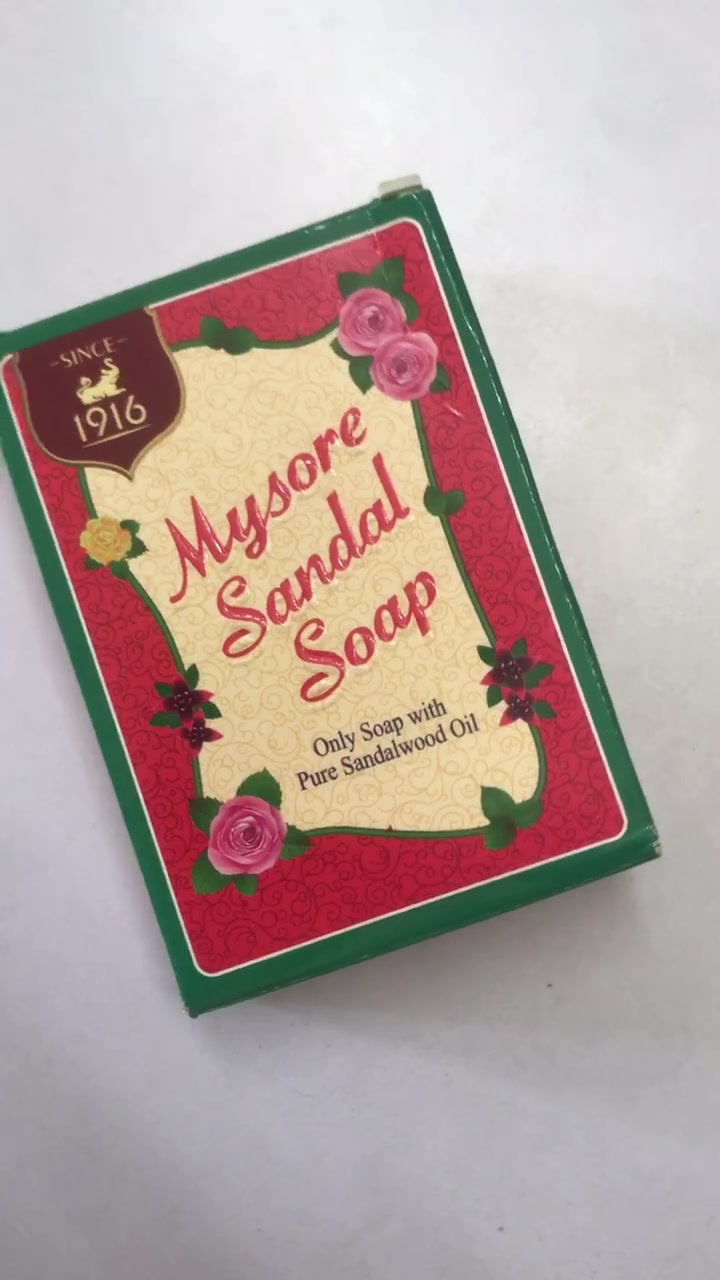mysore sandal soap: (3, 198, 659, 1017)
